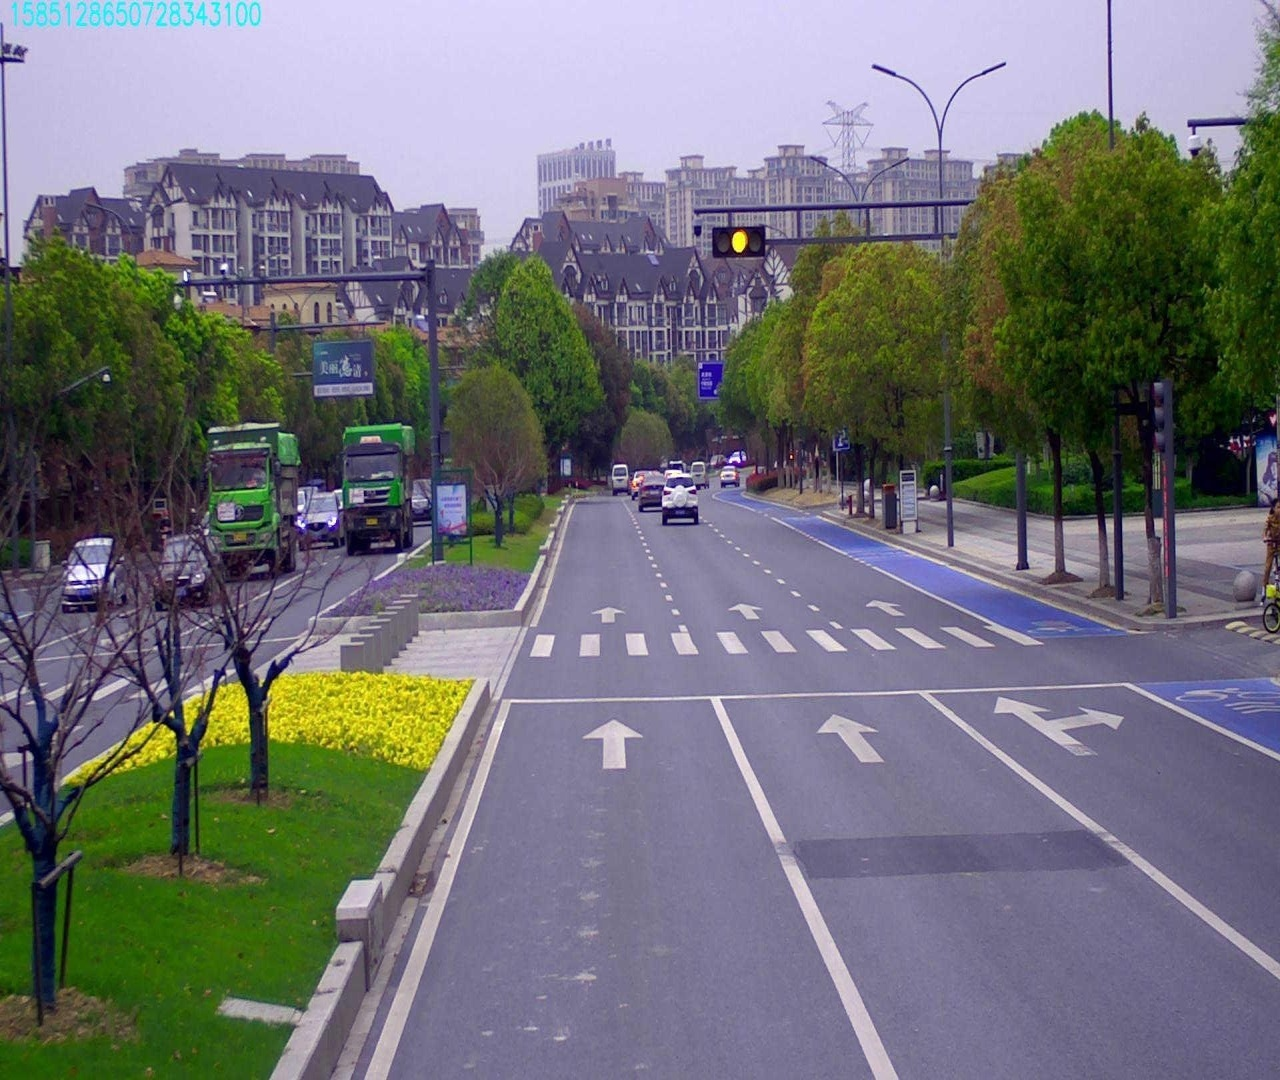yellow: (708, 229, 761, 255)
